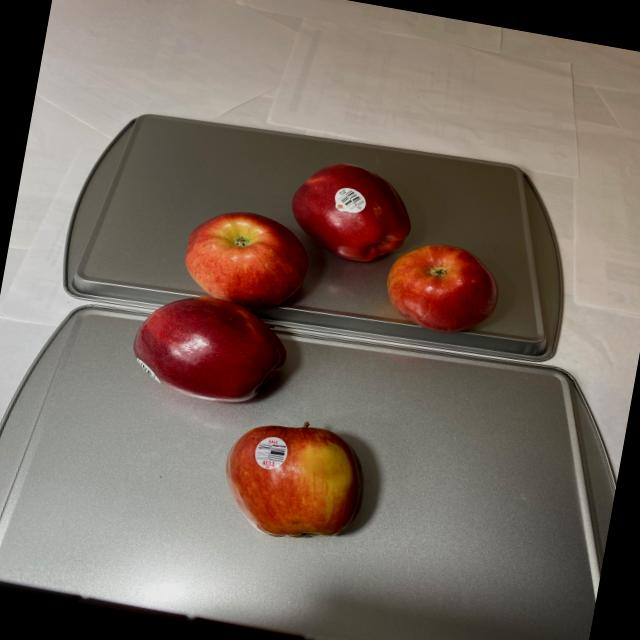apple: (120, 132, 516, 446), (214, 408, 381, 556)
